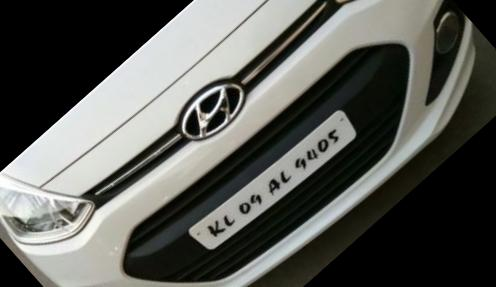plate: (171, 65, 395, 274)
